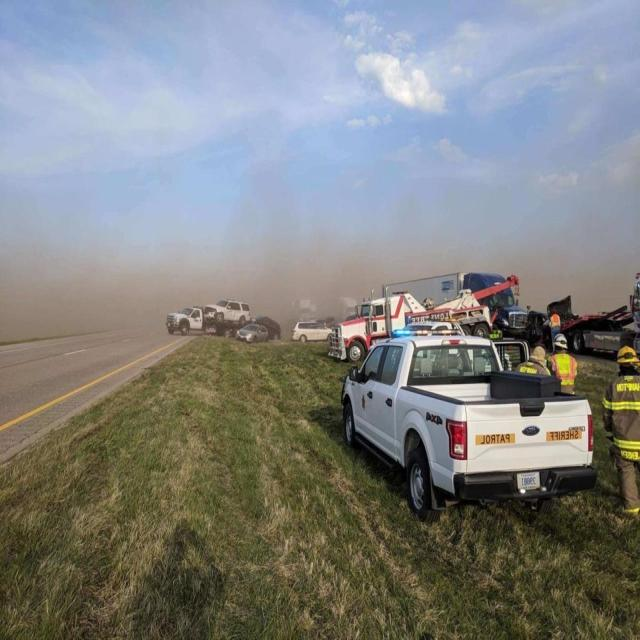Car: (204, 300, 252, 322), (236, 324, 269, 342)
Truck: (339, 336, 602, 522), (329, 274, 523, 363), (381, 272, 531, 338), (166, 306, 250, 338)
Van: (292, 321, 335, 343)
